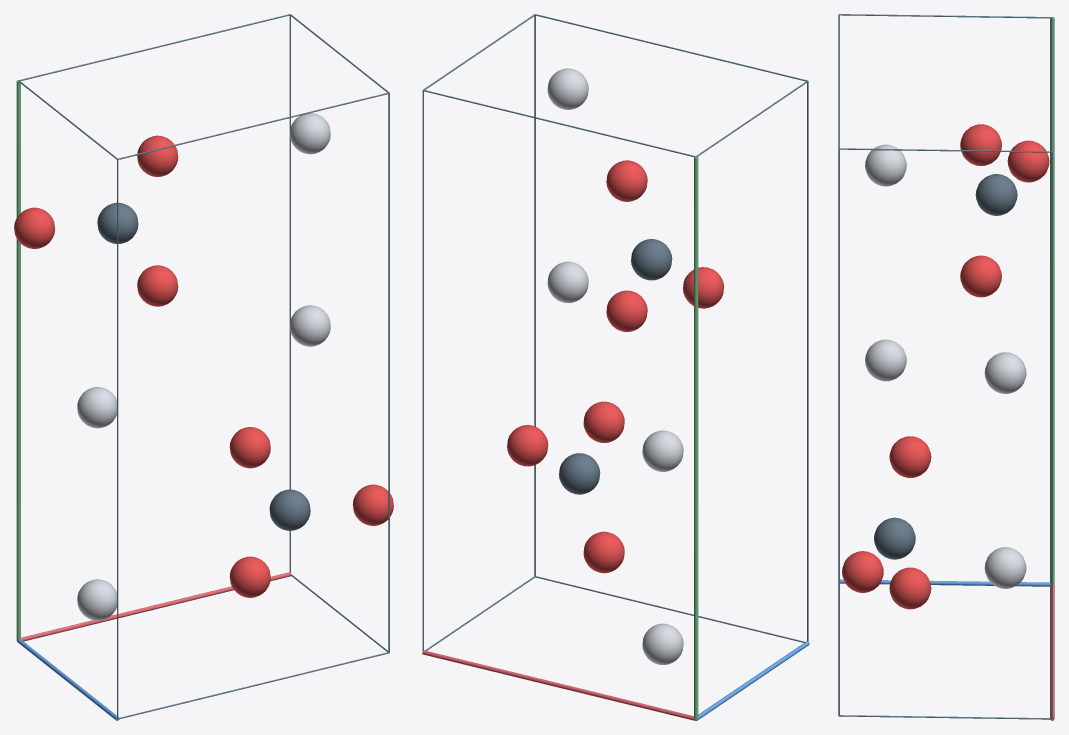
Rendered from chat-silver-carbonate.glb.
3 renders of one model, left to right at view 1: azimuth 30°, elevation 25°; view 2: azimuth 150°, elevation 25°; view 3: azimuth 270°, elevation 25°, orthographic.
Visible parts, largest first — view 1: Ô mạng và các trục a, b, c, Ag1 · Ag · 1 (×4), O2 · O · 1 (×4), O1 · O · 1 (×2), C1 · C · 1 (×2); view 2: Ô mạng và các trục a, b, c, O2 · O · 1 (×4), Ag1 · Ag · 1 (×4), C1 · C · 1 (×2), O1 · O · 1 (×2); view 3: Ô mạng và các trục a, b, c, Ag1 · Ag · 1 (×4), O2 · O · 1 (×4), C1 · C · 1 (×2), O1 · O · 1 (×2).
Boxes of the visible parts, x1,y1,x2,y2 form: Ô mạng và các trục a, b, c: (16, 14, 389, 720); Ag1 · Ag · 1 (×4): (77, 113, 330, 620); O2 · O · 1 (×4): (137, 135, 270, 597); O1 · O · 1 (×2): (14, 207, 393, 525); C1 · C · 1 (×2): (97, 202, 310, 530); Ô mạng và các trục a, b, c: (422, 14, 809, 720); O2 · O · 1 (×4): (583, 160, 647, 573); Ag1 · Ag · 1 (×4): (547, 68, 683, 664); C1 · C · 1 (×2): (559, 239, 672, 494); O1 · O · 1 (×2): (507, 267, 723, 466); Ô mạng và các trục a, b, c: (838, 14, 1054, 720); Ag1 · Ag · 1 (×4): (865, 144, 1026, 588); O2 · O · 1 (×4): (889, 124, 1001, 609); C1 · C · 1 (×2): (874, 174, 1017, 559); O1 · O · 1 (×2): (842, 140, 1049, 592).
Bounding box in the file's own units: 5.23 × 9.6 × 3.3.
